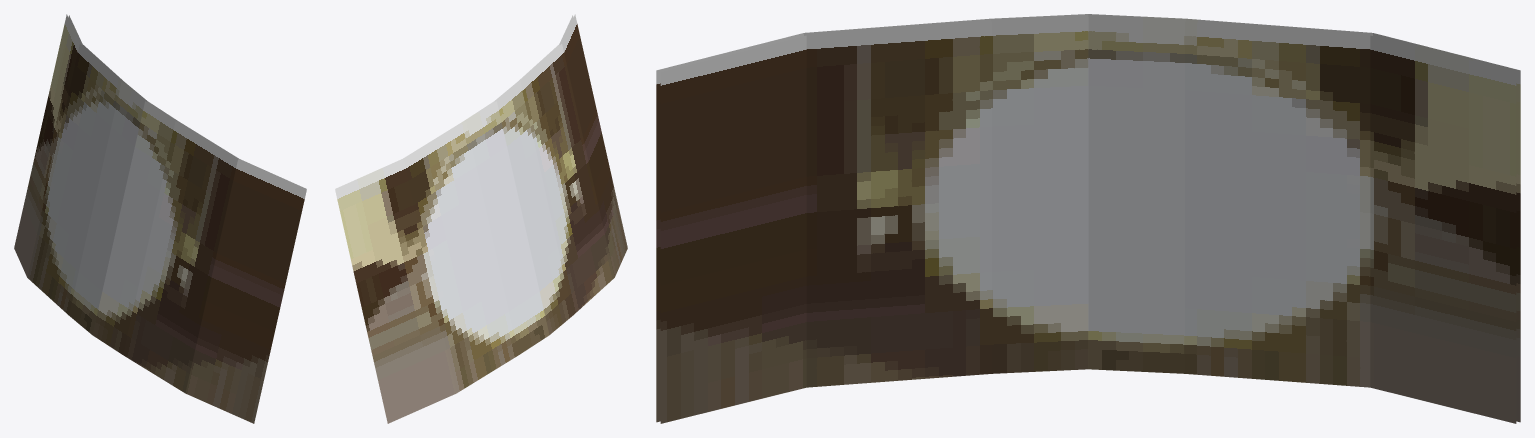
The model's file is Whale_starGlasses.obj.
The picture shows the model from 3 angles, left to right: view 1: azimuth 30°, elevation 25°; view 2: azimuth 150°, elevation 25°; view 3: azimuth 270°, elevation 25°; orthographic projection. The views are drawn at different scales.
Visible parts, largest first — view 1: Whale_starGlasses_tri; view 2: Whale_starGlasses_tri; view 3: Whale_starGlasses_tri.
Boxes of the visible parts, <box> form: Whale_starGlasses_tri: <box>14,14,306,423</box>; Whale_starGlasses_tri: <box>335,14,627,423</box>; Whale_starGlasses_tri: <box>656,14,1520,423</box>.
Bounding box in the file's own units: 0.0591 × 0.1376 × 0.2573.
1 material, 1 textured.
